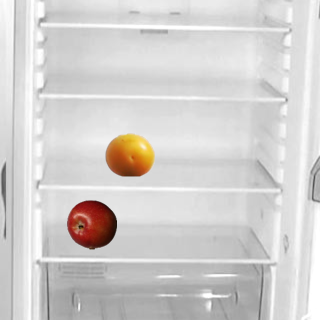Apple Braeburn: (66, 199, 116, 249)
Cherry Wax Yellow: (104, 129, 154, 179)
